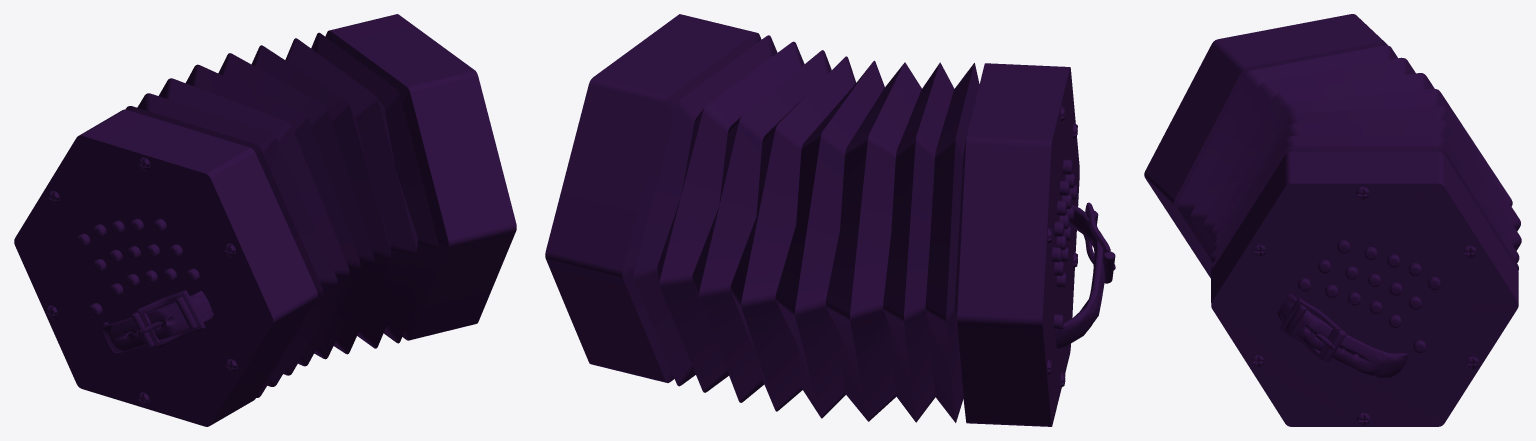
File: cage07.obj
3 renders of one model, left to right at view 1: azimuth 30°, elevation 25°; view 2: azimuth 150°, elevation 25°; view 3: azimuth 270°, elevation 25°, orthographic. The views are drawn at different scales.
Parts seen in each view (by area): view 1: polySurface289, screwHighPoly:polySurface170 screwHighPoly:polySurface314 polySu; view 2: polySurface289; view 3: polySurface289, screwHighPoly:polySurface170 screwHighPoly:polySurface314 polySu.
Boxes of the visible parts, <box> form: polySurface289: <box>14,14,516,426</box>; screwHighPoly:polySurface170 screwHighPoly:polySurface314 polySu: <box>46,157,237,405</box>; polySurface289: <box>545,14,1115,426</box>; polySurface289: <box>1144,14,1521,426</box>; screwHighPoly:polySurface170 screwHighPoly:polySurface314 polySu: <box>1251,187,1478,425</box>.
Bounding box in the file's own units: 12.5 × 7 × 9.81.
